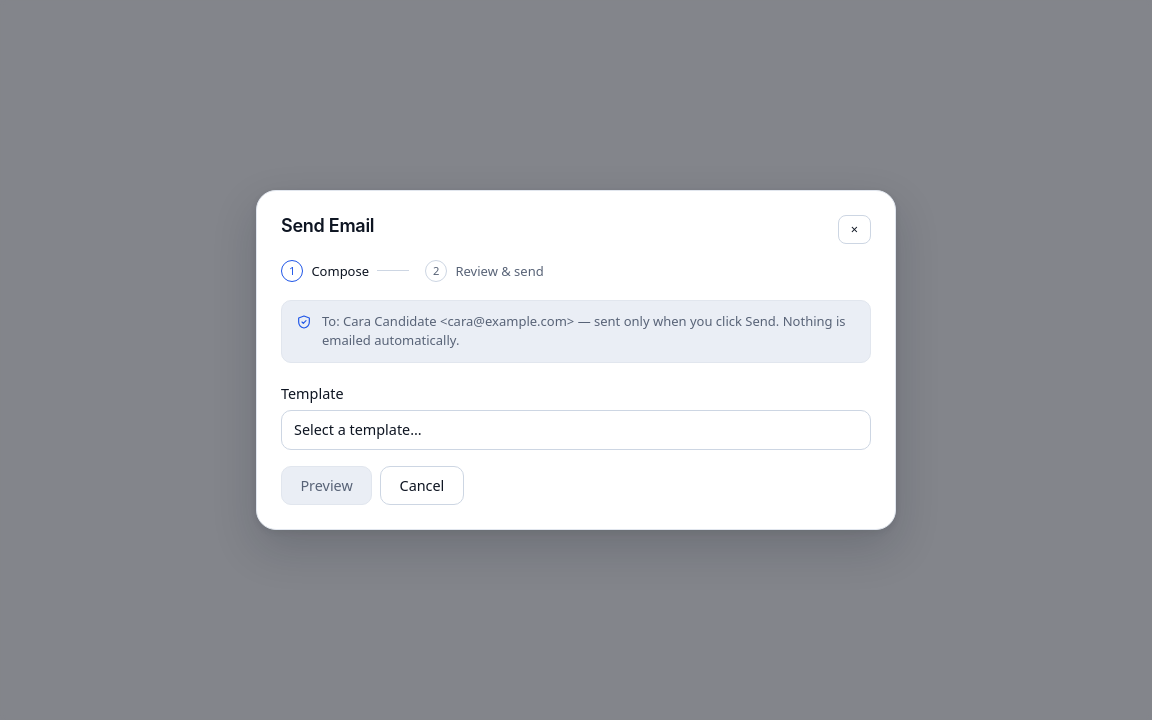
Test: EmailComposerModal › never overwrites text the recruiter has edited, until they reset to the template
Select "Interview invitation" in the dropdown labelled "Template" at (576, 430), box x1=281 y1=410 x2=871 y2=450
(page scrolled)
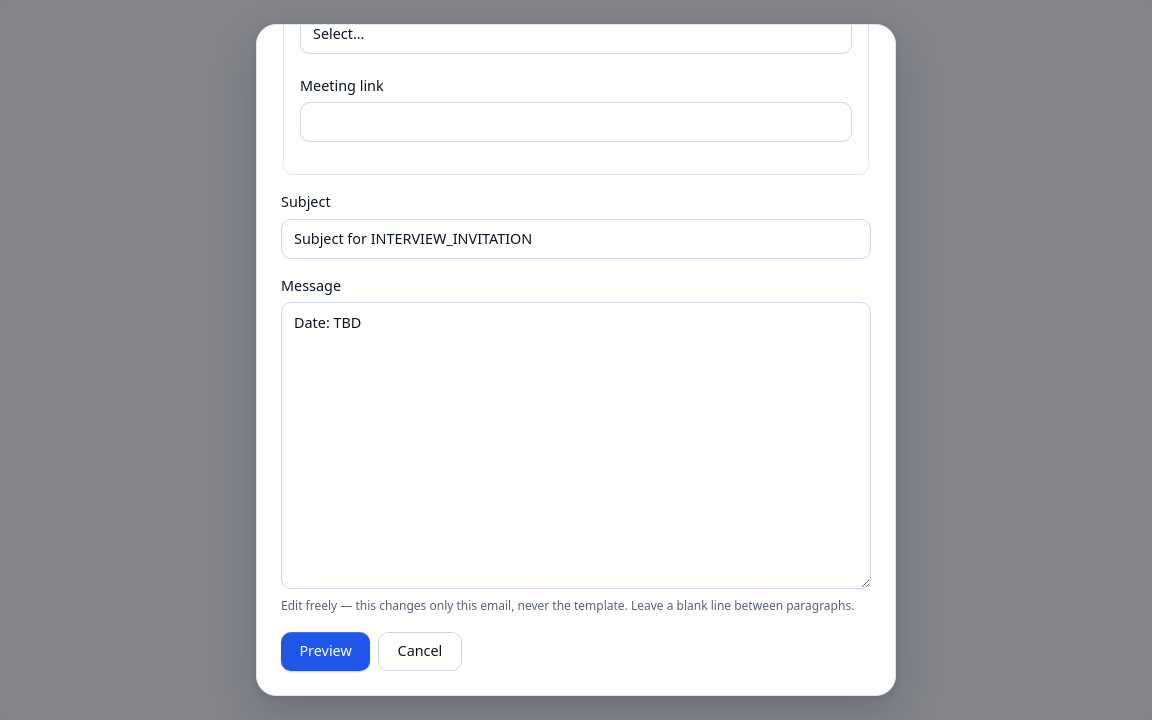
Expected: the text box showing "Date: TBD" is shown
Replace the text in the text box labelled "Message" with "My own wording." at (576, 446), box x1=281 y1=302 x2=871 y2=589
(page scrolled)
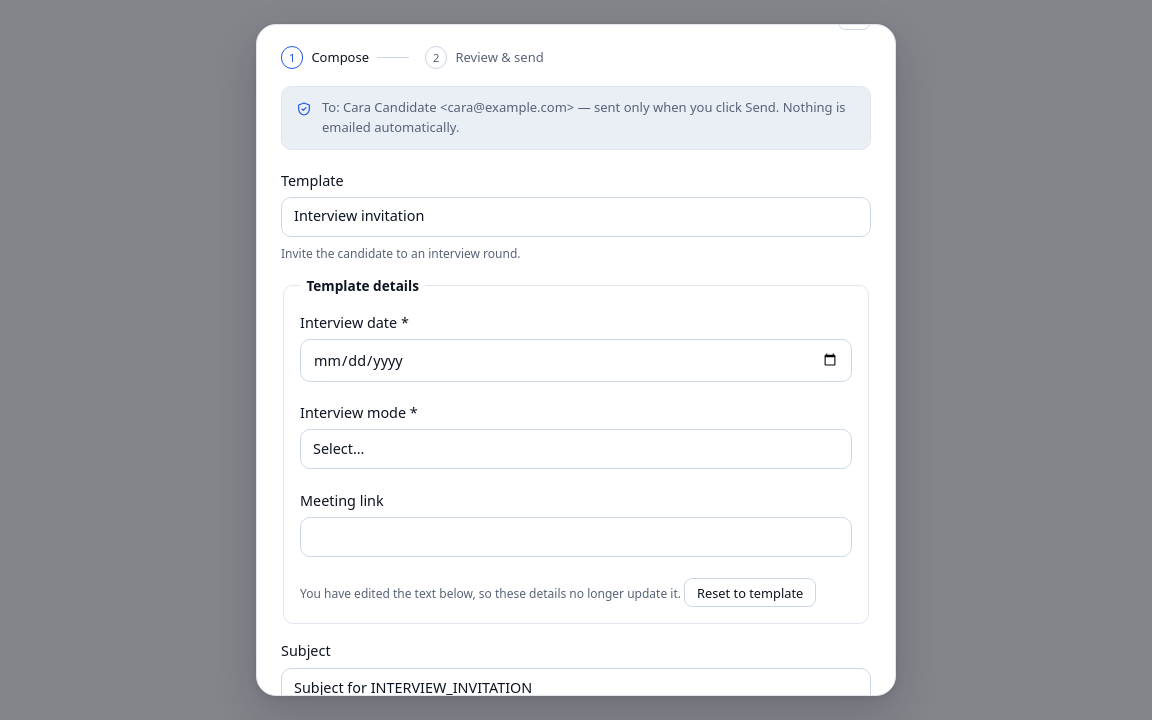
Type "2026-09-25" into the date field labelled "Interview date *".
click(576, 360); type("2026-09-25")  # box x1=300 y1=339 x2=852 y2=382
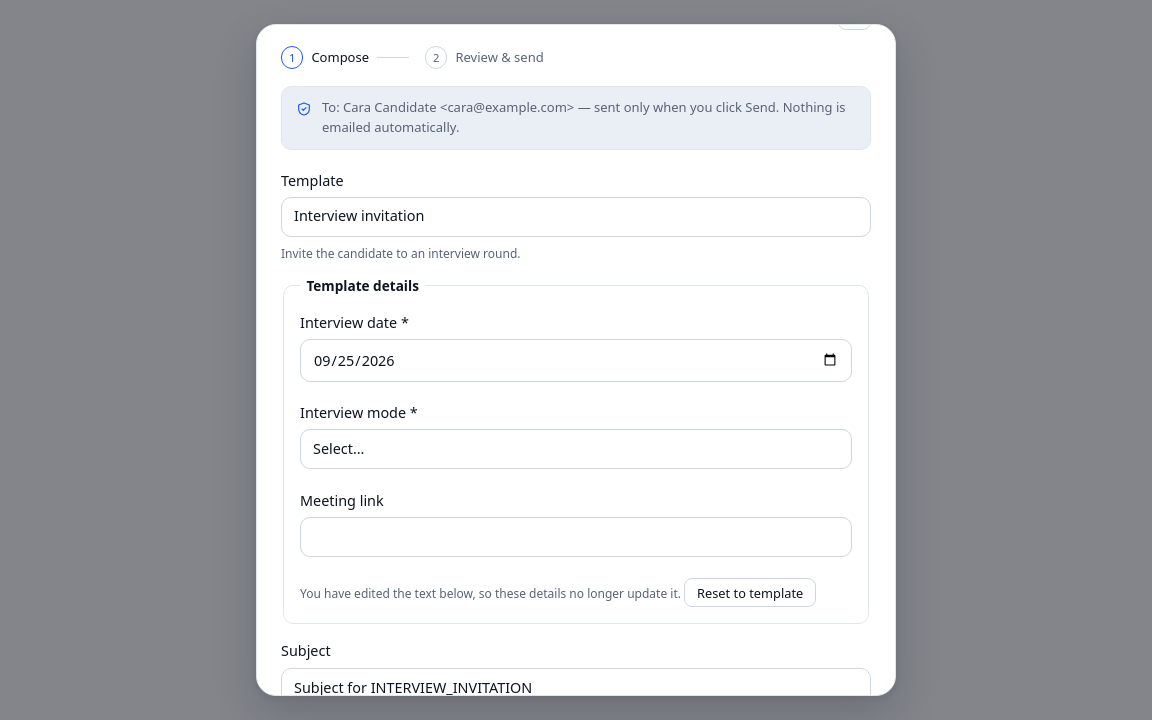
Click the button "Reset to template".
click(750, 593)  # box x1=684 y1=578 x2=816 y2=608
(page scrolled)
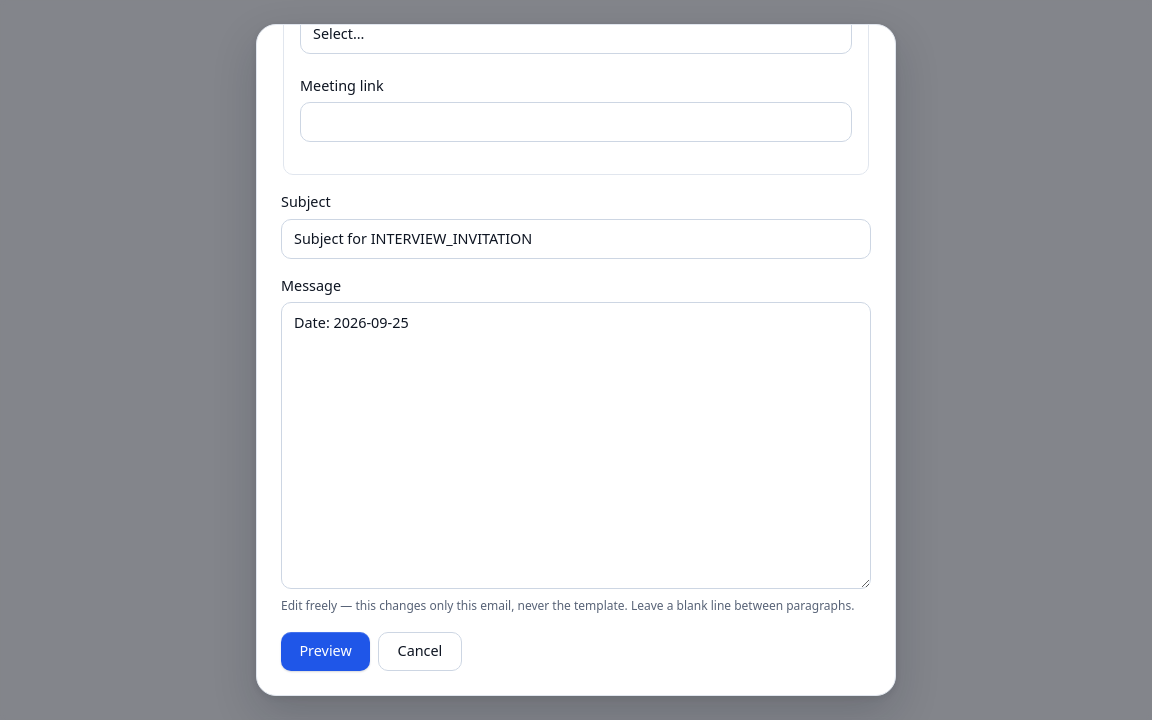
Expected: the text box showing "Date: 2026-09-25" is shown, x1=281 y1=302 x2=871 y2=589
